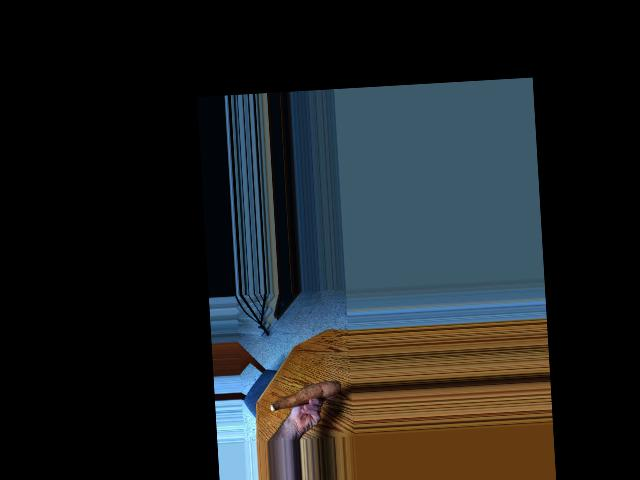sweet_potato: (267, 377, 341, 414)
